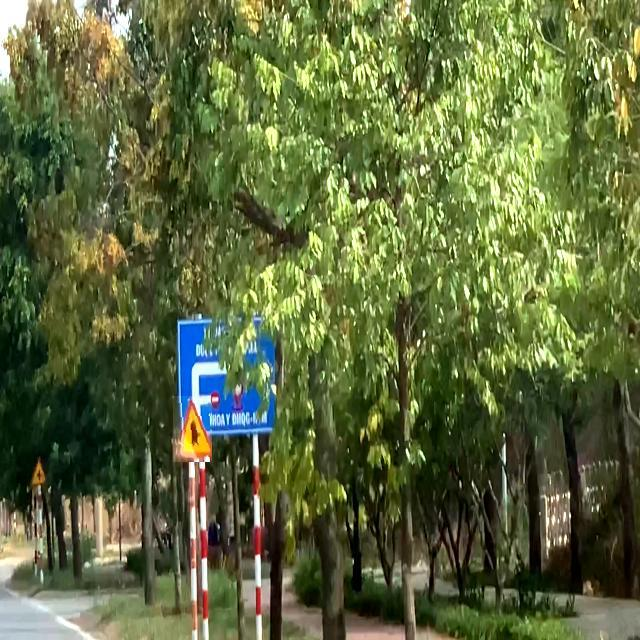W-207b: (173, 397, 212, 463)
